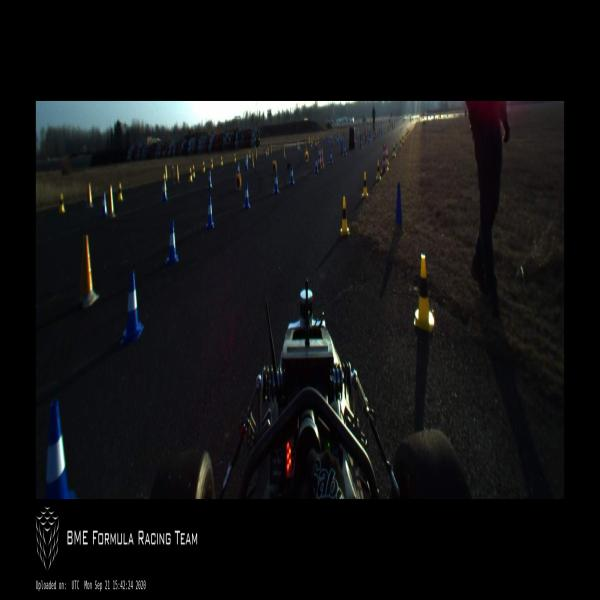blue_cone: (45, 401, 76, 498), (120, 270, 144, 346), (165, 221, 179, 267), (206, 197, 214, 230), (243, 182, 251, 210), (100, 192, 108, 216), (273, 172, 279, 194), (162, 181, 168, 201), (290, 164, 294, 184), (208, 170, 212, 190), (314, 157, 318, 175), (329, 150, 333, 164), (282, 145, 286, 159), (245, 159, 248, 171), (315, 141, 318, 150), (360, 136, 362, 149), (365, 131, 367, 144), (344, 144, 346, 156), (368, 133, 370, 145), (238, 161, 240, 172), (373, 130, 375, 140), (377, 128, 379, 138), (266, 149, 268, 158), (298, 144, 300, 152), (328, 138, 330, 146), (381, 127, 382, 135), (337, 138, 338, 146)
large_orange_cone: (380, 144, 386, 173), (317, 144, 322, 170), (384, 143, 388, 170), (320, 143, 324, 169)
orange_cone: (255, 148, 258, 159), (331, 138, 334, 146), (344, 130, 346, 140)
unknown_cone: (80, 232, 99, 310), (392, 183, 404, 236), (109, 185, 115, 217), (88, 183, 93, 207), (171, 164, 175, 184), (164, 164, 168, 179), (176, 164, 179, 183), (252, 152, 255, 170), (341, 140, 344, 154), (304, 142, 307, 152), (270, 144, 272, 154)
yellow_cone: (414, 254, 434, 332), (340, 195, 349, 238), (361, 172, 368, 198), (59, 194, 65, 214), (376, 161, 381, 181), (118, 182, 123, 202), (236, 172, 241, 192), (392, 143, 396, 157), (386, 150, 389, 166), (189, 167, 192, 183), (305, 151, 309, 163), (210, 159, 214, 170), (272, 161, 276, 172), (202, 162, 206, 172), (192, 165, 195, 178), (399, 137, 402, 149), (220, 155, 223, 167), (406, 127, 409, 137), (402, 134, 404, 146), (234, 153, 236, 164), (322, 133, 325, 140), (248, 149, 250, 159), (405, 132, 407, 141), (308, 135, 310, 144), (310, 139, 312, 148), (317, 136, 319, 145), (297, 142, 299, 150), (408, 126, 410, 133), (392, 126, 394, 133), (400, 126, 402, 133), (384, 126, 386, 132), (387, 124, 389, 130), (389, 124, 391, 130), (313, 134, 314, 141)
